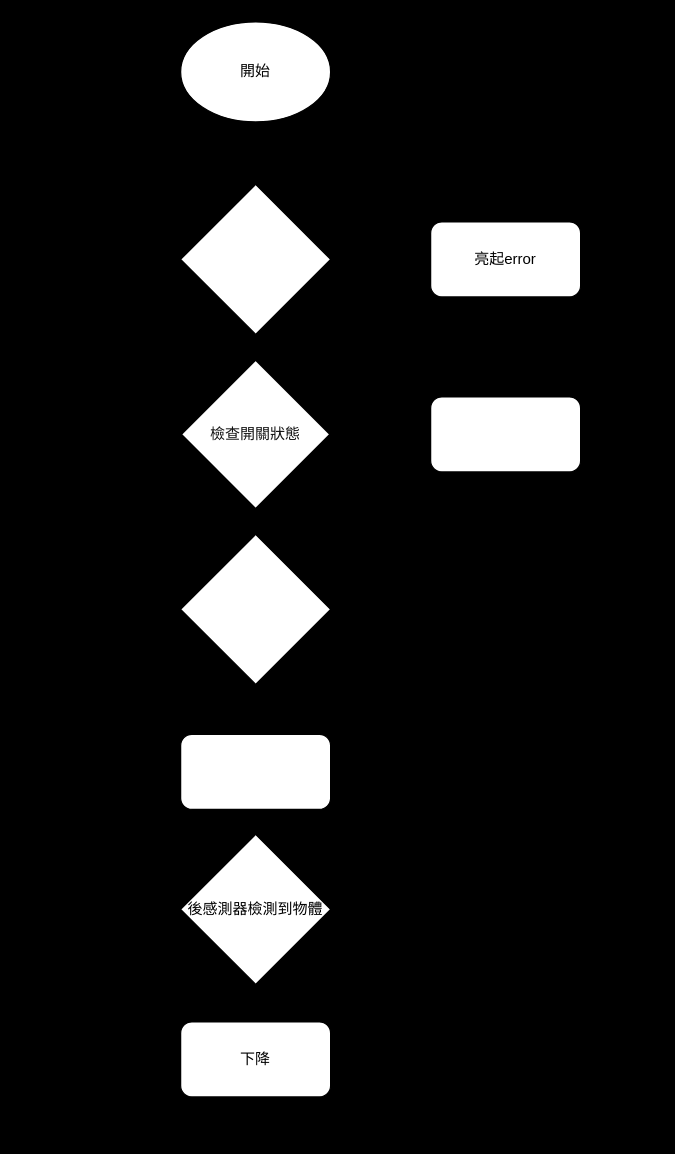
The diagram is 675 pixels wide and 1154 high, and some of its shapes have lost their labels. The box of each missing label's shape, as (x1, y1, x2, y2) in pixels:
亮起erro: (429, 396, 581, 472)
前感測器檢測到物體: (179, 533, 331, 684)
升起: (179, 733, 331, 809)
